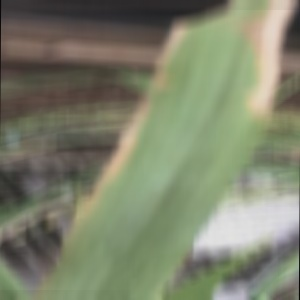Leaf_Blast: (157, 2, 284, 206)
